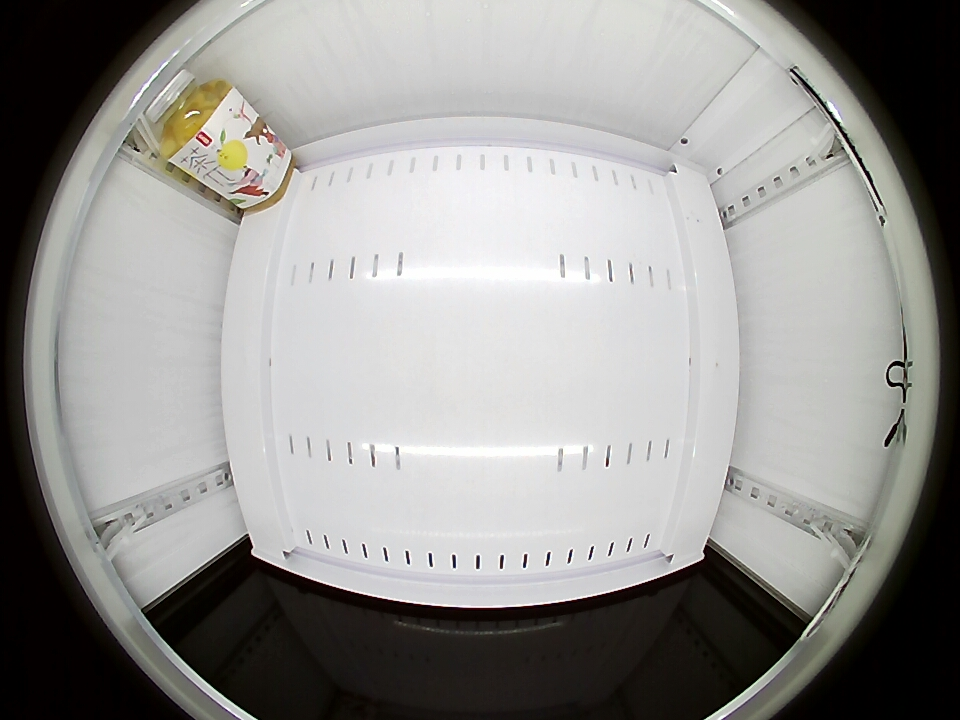chapai: (151, 71, 237, 166)
